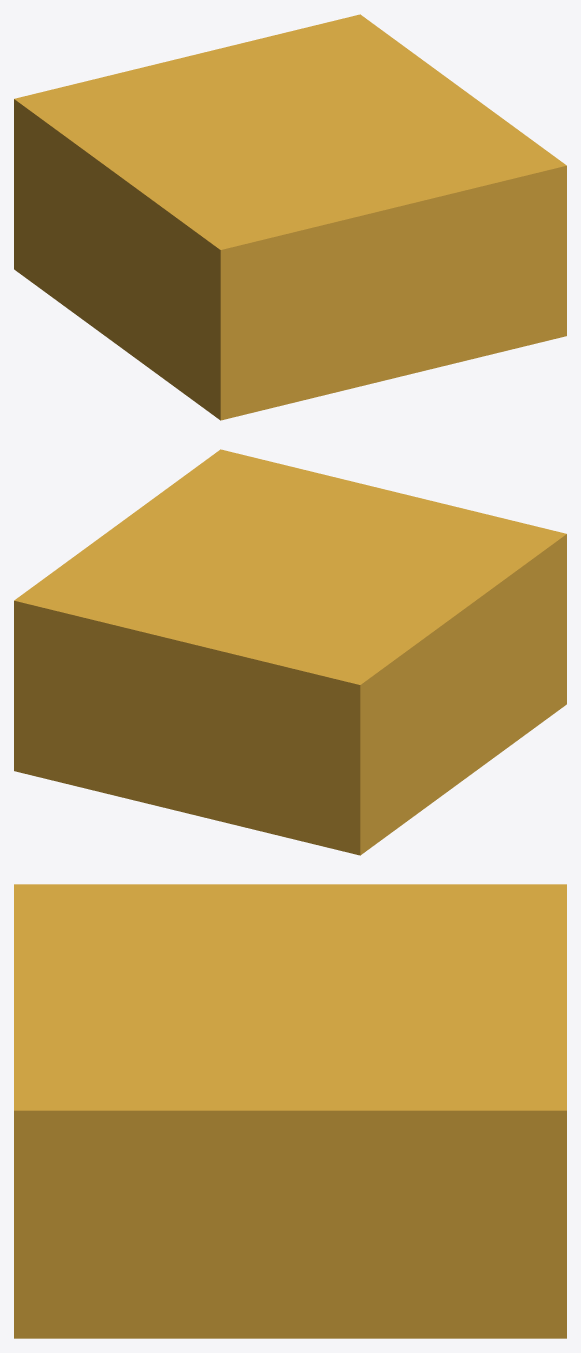
The model's file is SquareYellow.glb.
The picture shows the model from 3 angles, top to bottom: view 1: azimuth 30°, elevation 25°; view 2: azimuth 150°, elevation 25°; view 3: azimuth 270°, elevation 25°; orthographic projection. The views are drawn at different scales.
Parts seen in each view (by area): view 1: Cube.002; view 2: Cube.002; view 3: Cube.002.
Part boxes in pixels (x1,y1,x2,y2): Cube.002: (14,14,566,420); Cube.002: (14,449,566,855); Cube.002: (14,884,566,1338).
Bounding box in the file's own units: 60 × 28.22 × 62.
